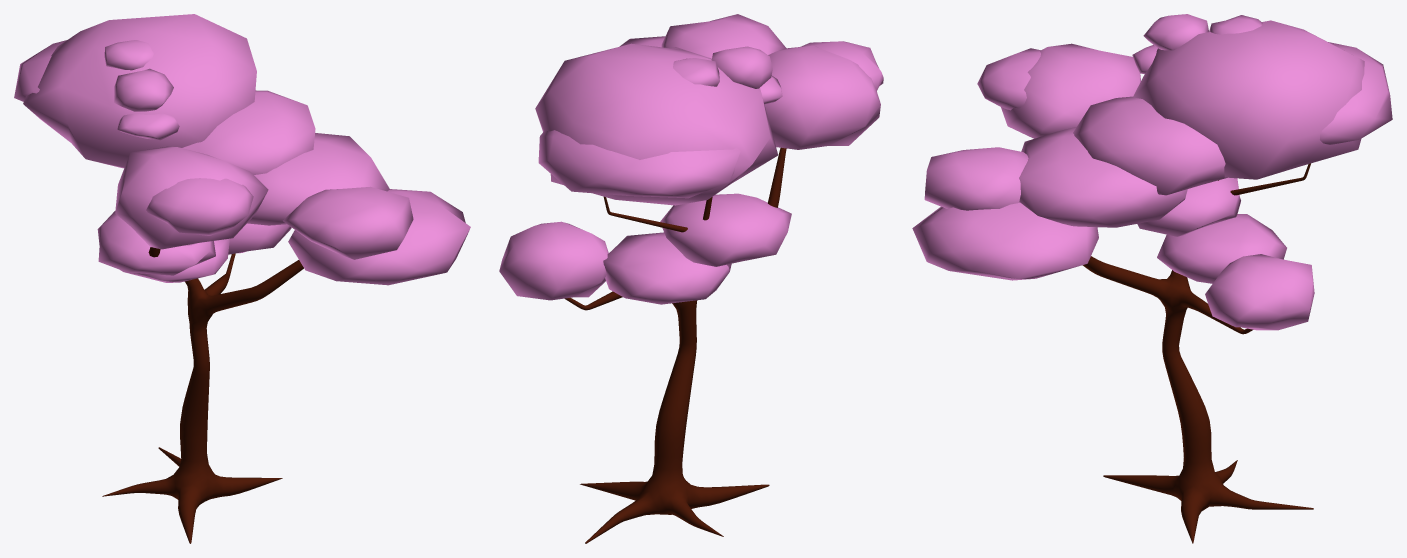
The model's file is TreeLarge.fbx.
3 renders of one model, left to right at view 1: azimuth 30°, elevation 25°; view 2: azimuth 150°, elevation 25°; view 3: azimuth 270°, elevation 25°, orthographic. The views are drawn at different scales.
Visible parts, largest first — view 1: Tree3; view 2: Tree3; view 3: Tree3.
Part boxes in pixels (box(x1,y1,x2,y2)): Tree3: box(14, 14, 470, 543); Tree3: box(499, 14, 883, 543); Tree3: box(912, 14, 1392, 543).
Size of the model in its own units: 117 by 160 by 151.
